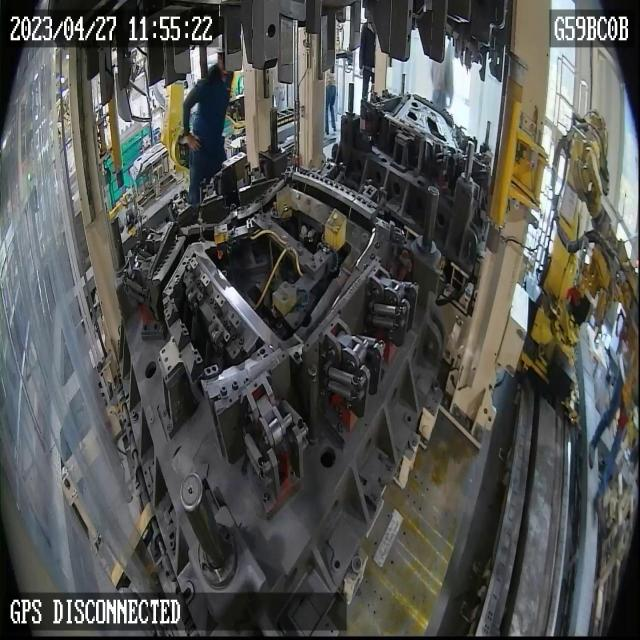Person: (182, 50, 231, 208), (588, 350, 636, 510), (430, 37, 454, 111), (359, 20, 375, 101), (325, 73, 337, 134)
